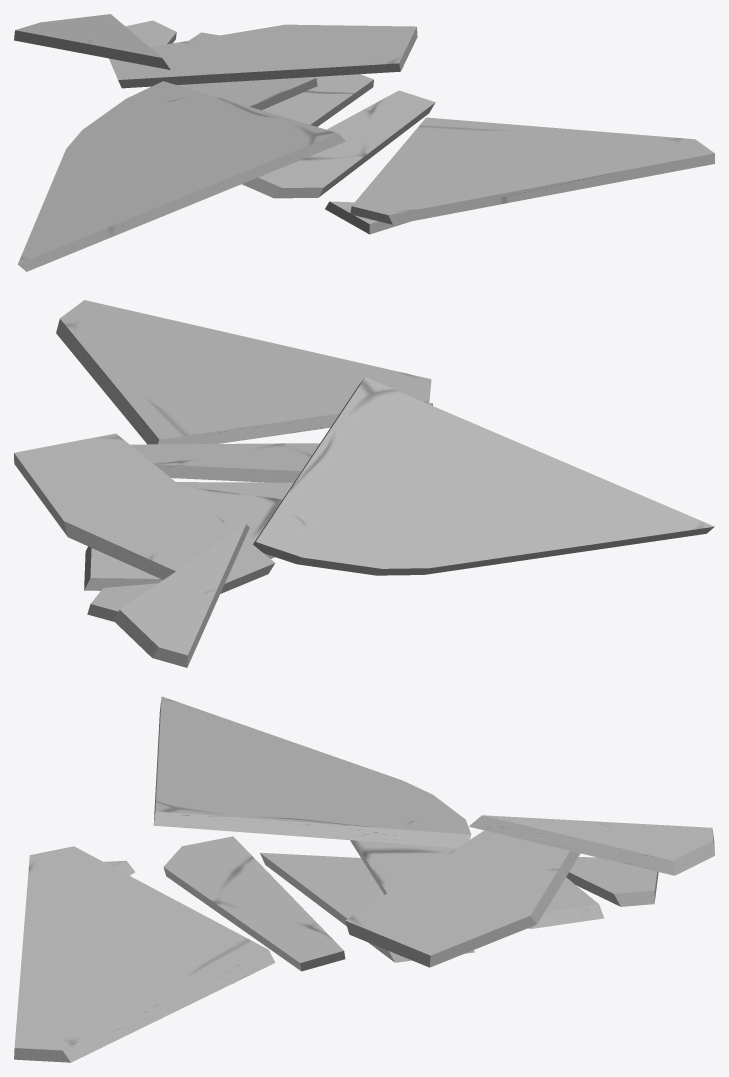
File: duvar_yıkılmış2.fbx
3 renders of one model, top to bottom at view 1: azimuth 30°, elevation 25°; view 2: azimuth 150°, elevation 25°; view 3: azimuth 270°, elevation 25°, orthographic. The views are drawn at different scales.
Visible parts, largest first — view 1: Cube_8.002_cell.001, Cube_8.002_cell.002; view 2: Cube_8.002_cell.001, Cube_8.002_cell.002; view 3: Cube_8.002_cell.001, Cube_8.002_cell.002.
Part boxes in pixels (left/top/right/bottom): Cube_8.002_cell.001: left=14, top=14, right=714, bottom=234; Cube_8.002_cell.002: left=17, top=81, right=345, bottom=271; Cube_8.002_cell.001: left=14, top=300, right=432, bottom=667; Cube_8.002_cell.002: left=253, top=377, right=714, bottom=575; Cube_8.002_cell.001: left=14, top=815, right=714, bottom=1062; Cube_8.002_cell.002: left=153, top=696, right=471, bottom=847.
Size of the model in its own units: 762 by 74.49 by 634.
